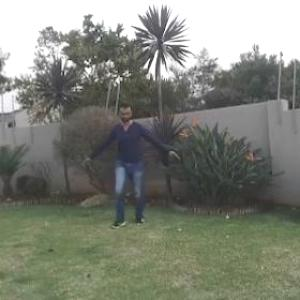land: (84, 98, 188, 228)
